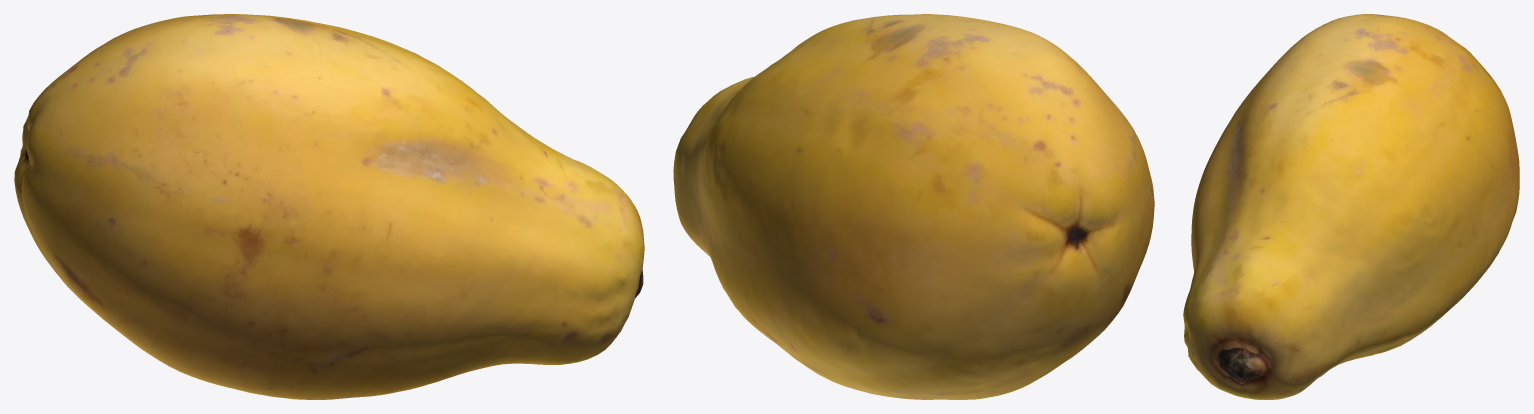
The model's file is papaya.glb.
3 views of the same model, side by side, from view 1: azimuth 30°, elevation 25°; view 2: azimuth 150°, elevation 25°; view 3: azimuth 270°, elevation 25° (orthographic). The views are drawn at different scales.
Visible parts, largest first — view 1: fruitai_marime_reala; view 2: fruitai_marime_reala; view 3: fruitai_marime_reala.
Part boxes in pixels (x1,y1,x2,y2): fruitai_marime_reala: [14, 14, 644, 399]; fruitai_marime_reala: [673, 14, 1154, 399]; fruitai_marime_reala: [1183, 14, 1519, 399].
Size of the model in its own units: 0.2 by 0.1333 by 0.1469.
Materials: 1 (1 with a texture image).
